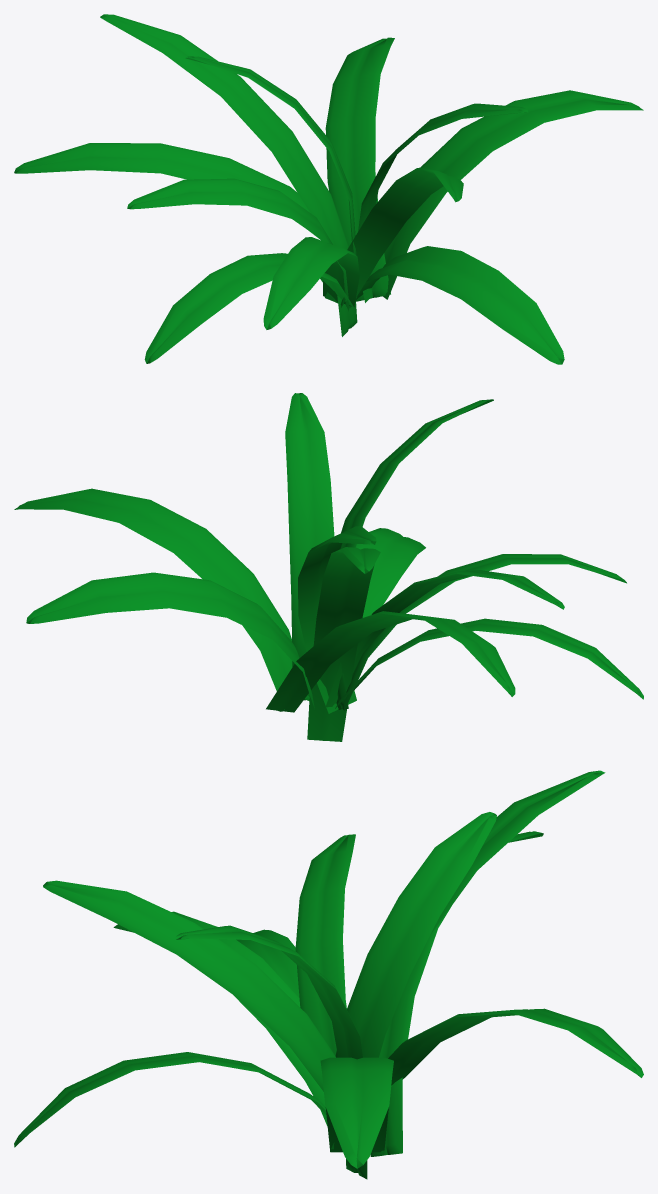
Rendered from grass4.fbx.
3 renders of one model, top to bottom at view 1: azimuth 30°, elevation 25°; view 2: azimuth 150°, elevation 25°; view 3: azimuth 270°, elevation 25°, orthographic. The views are drawn at different scales.
Parts seen in each view (by area): view 1: pPlane54; view 2: pPlane54; view 3: pPlane54.
Boxes of the visible parts, left/top/right/bottom form: pPlane54: left=14, top=14, right=643, bottom=364; pPlane54: left=14, top=393, right=643, bottom=741; pPlane54: left=14, top=770, right=643, bottom=1179.
Size of the model in its own units: 24.29 by 11.59 by 20.44.
